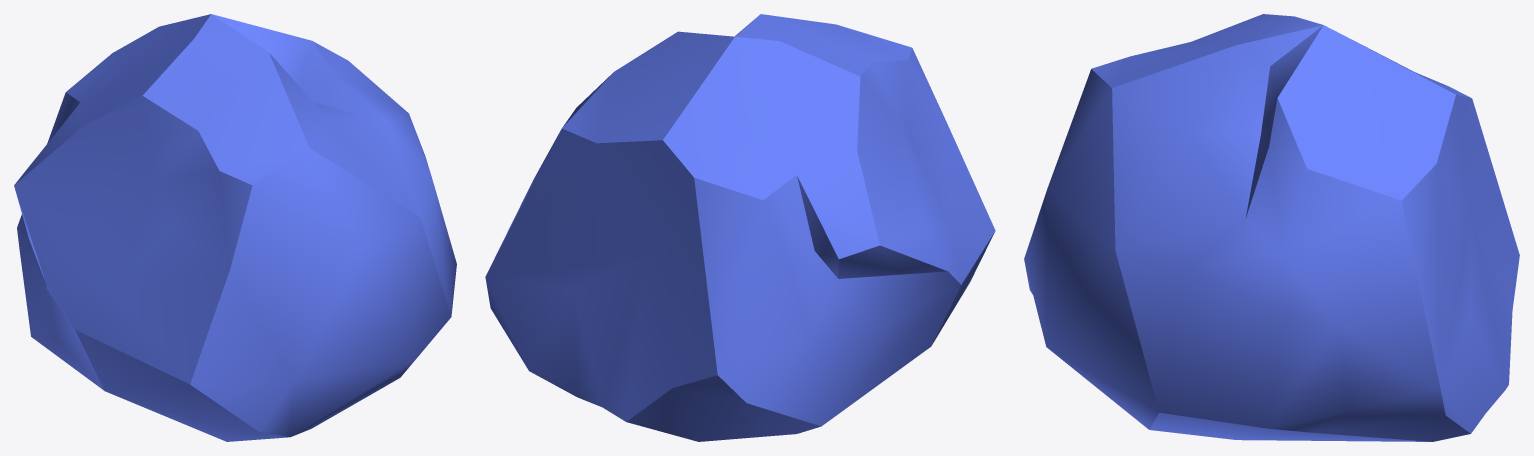
The model's file is scene_pierre.glb.
The picture shows the model from 3 angles, left to right: view 1: azimuth 30°, elevation 25°; view 2: azimuth 150°, elevation 25°; view 3: azimuth 270°, elevation 25°; orthographic projection. The views are drawn at different scales.
Parts seen in each view (by area): view 1: stone; view 2: stone; view 3: stone.
Boxes of the visible parts, left/top/right/bottom form: stone: left=14, top=14, right=456, bottom=441; stone: left=485, top=14, right=995, bottom=441; stone: left=1024, top=14, right=1519, bottom=441.
Size of the model in its own units: 1.77 by 1.52 by 1.86.
